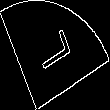L_SW: (32, 30, 78, 80)
